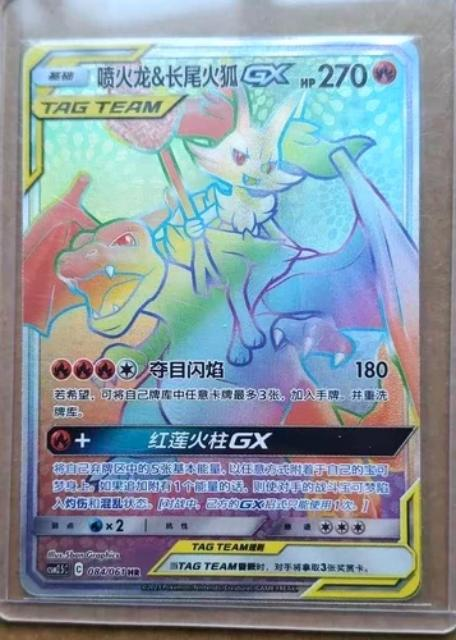Card: (16, 33, 426, 603)
Name: (91, 59, 306, 96)
